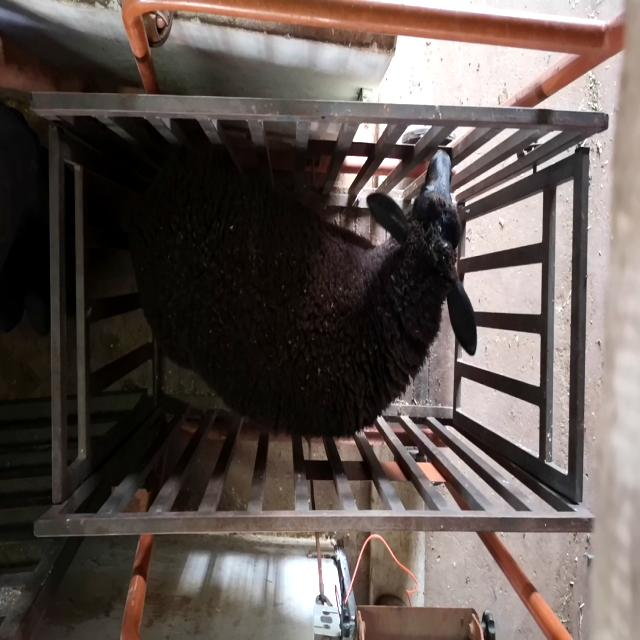sheep: (128, 141, 478, 437)
